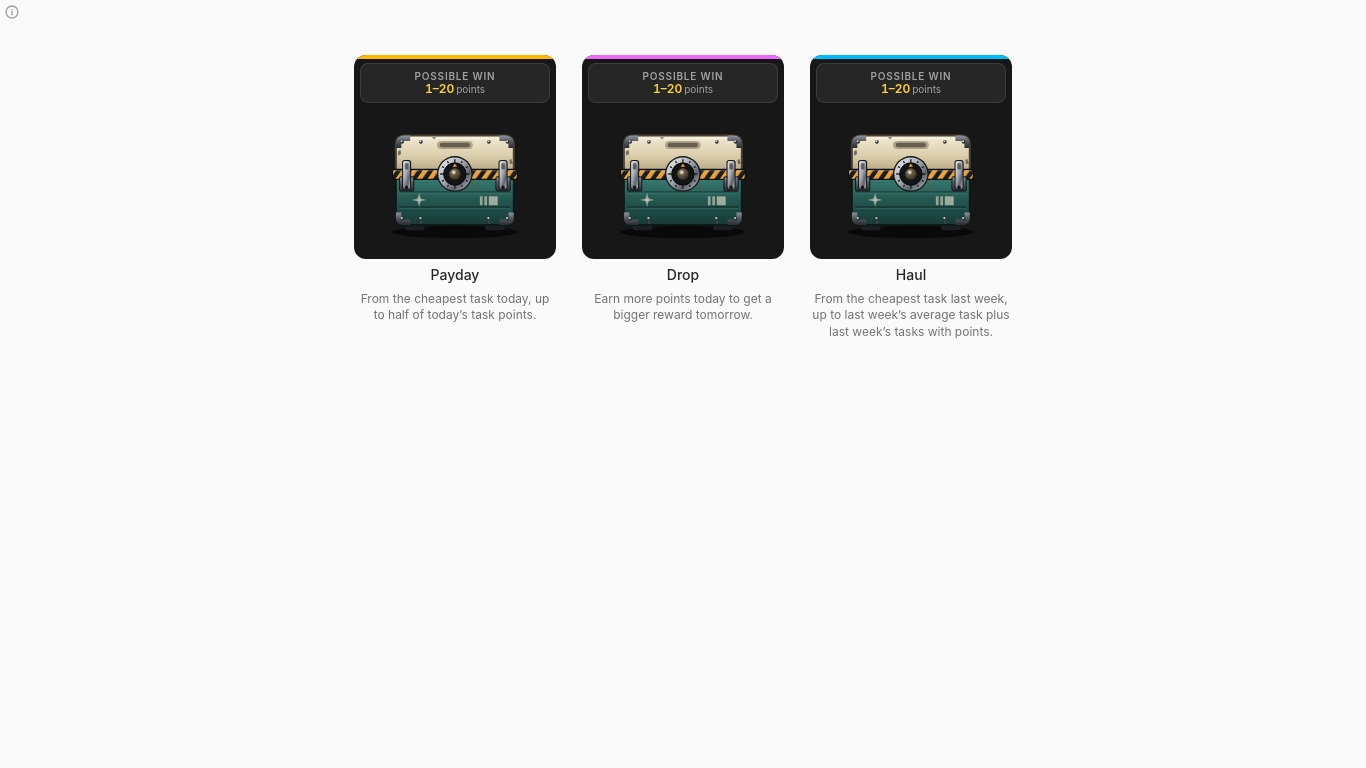
Test: what the page says › names only tasks with points while tasks without them are not counted (CHST-32)
Click the button named "About Cases". click: (12, 12)
box: top-left (0, 0), bottom-right (24, 24)
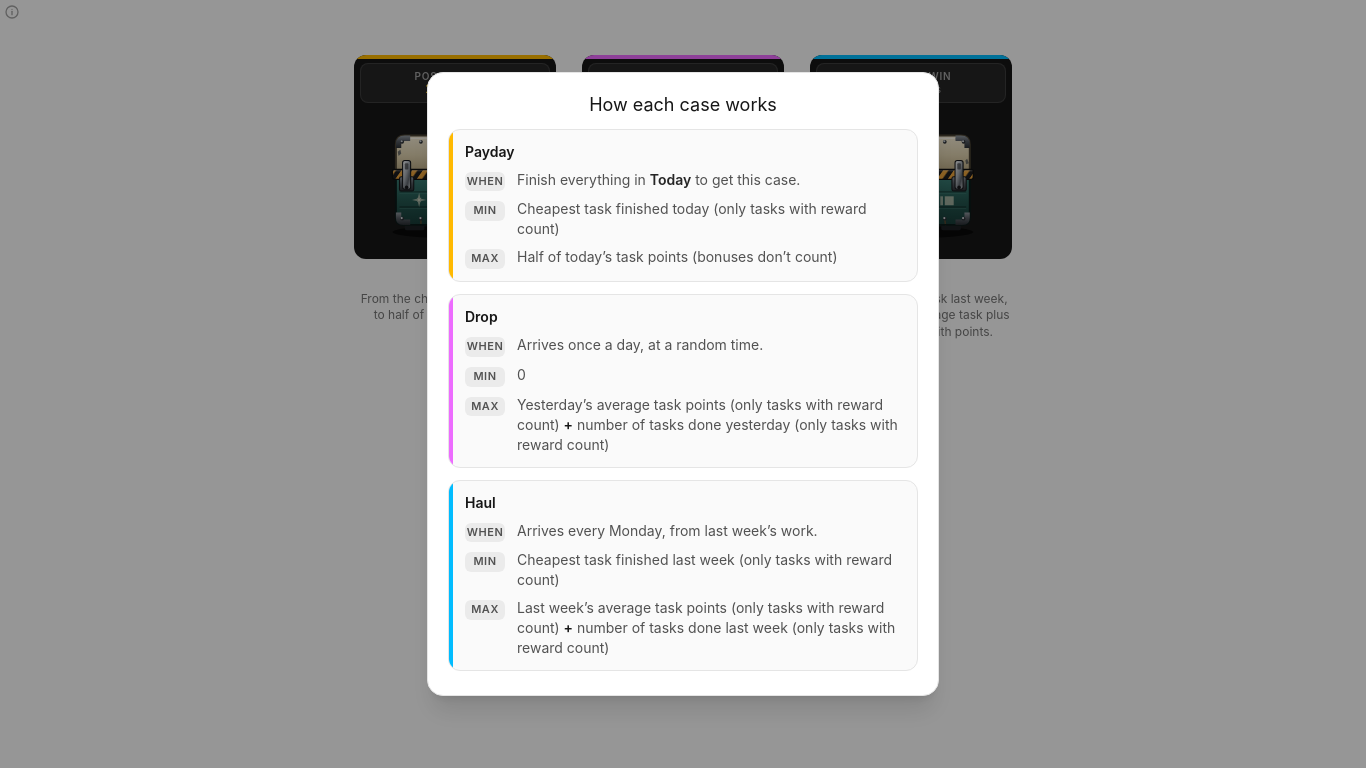
Expected: the heading "Payday" is shown, top-left (465, 143), bottom-right (514, 160)
Expected: the heading "Drop" is shown, top-left (465, 308), bottom-right (498, 325)
Expected: the heading "Haul" is shown, top-left (465, 494), bottom-right (496, 510)
